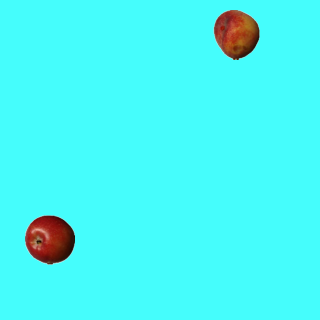Apple Braeburn: (24, 214, 74, 264)
Peach: (211, 9, 261, 59)
